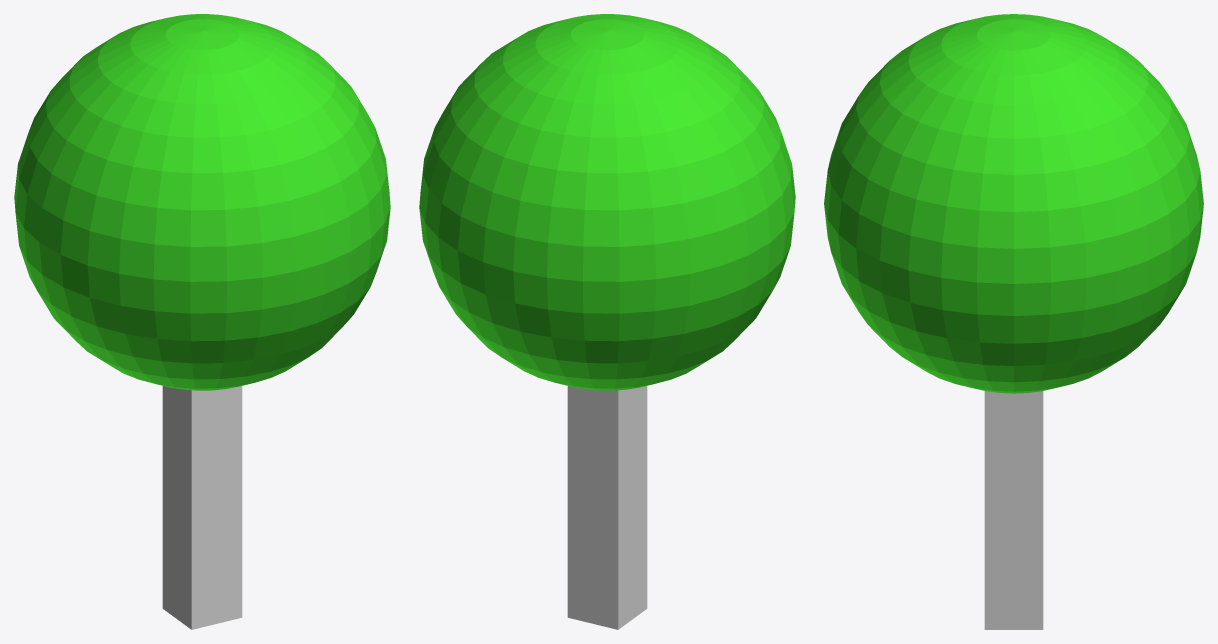
3 views of the same model, side by side, from view 1: azimuth 30°, elevation 25°; view 2: azimuth 150°, elevation 25°; view 3: azimuth 270°, elevation 25° (orthographic).
Visible parts, largest first — view 1: Sphere, Cube; view 2: Sphere, Cube; view 3: Sphere, Cube.
Part boxes in pixels (box(x1,y1,x2,y2)): Sphere: box(14, 14, 390, 390); Cube: box(162, 386, 242, 629); Sphere: box(419, 14, 795, 390); Cube: box(567, 386, 647, 629); Sphere: box(824, 14, 1203, 393); Cube: box(984, 391, 1043, 629).
Bounding box in the file's own units: 10.32 × 17.55 × 10.32.
